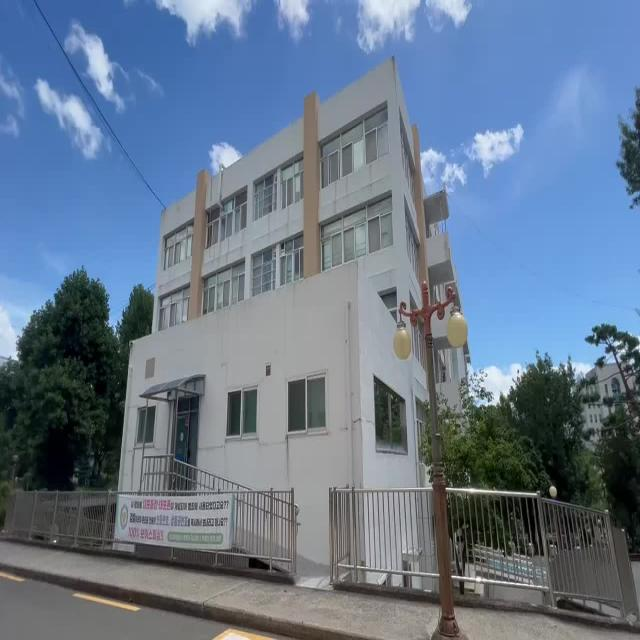building: (130, 112, 395, 478)
